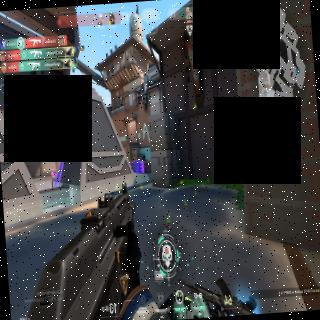ENEMY-BODY: (138, 158, 146, 174), (50, 168, 56, 188)
ENEMY-HEAD: (51, 168, 54, 172)
